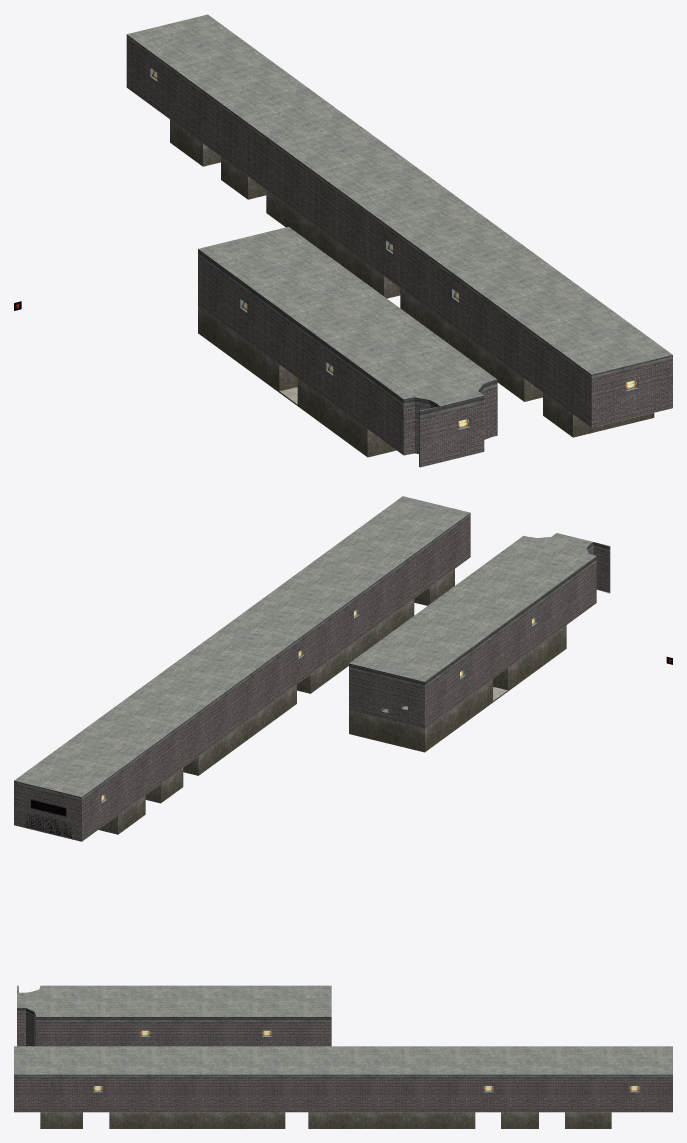
Rendered from bhop_rabiga.glb.
3 renders of one model, top to bottom at view 1: azimuth 30°, elevation 25°; view 2: azimuth 150°, elevation 25°; view 3: azimuth 270°, elevation 25°, orthographic. The views are drawn at different scales.
Parts seen in each view (by area): view 1: bhop_rabiga_static; view 2: bhop_rabiga_static; view 3: bhop_rabiga_static.
Boxes of the visible parts, x1,y1,x2,y2 form: bhop_rabiga_static: (14,14,672,467); bhop_rabiga_static: (14,496,672,841); bhop_rabiga_static: (14,985,672,1128).
Bounding box in the file's own units: 51.61 × 13.08 × 84.66.
Materials: 24 (24 with a texture image).
